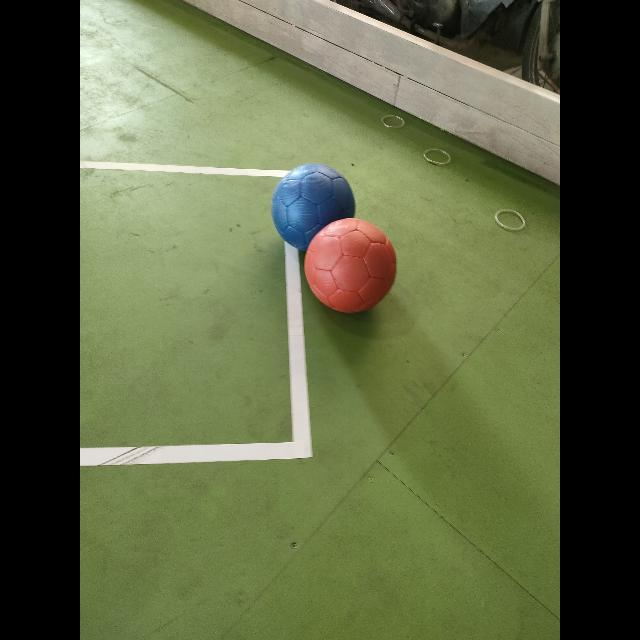B: (271, 164, 355, 250)
R: (305, 219, 396, 312)
